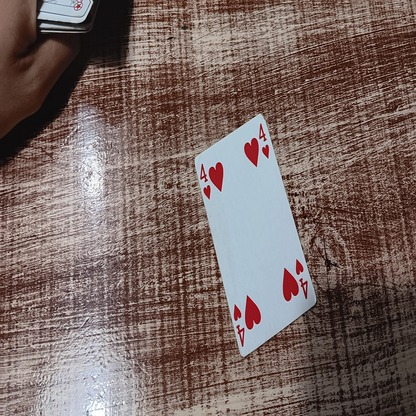4h: (292, 258, 311, 300), (230, 304, 248, 348), (196, 161, 211, 200), (257, 124, 272, 159)
